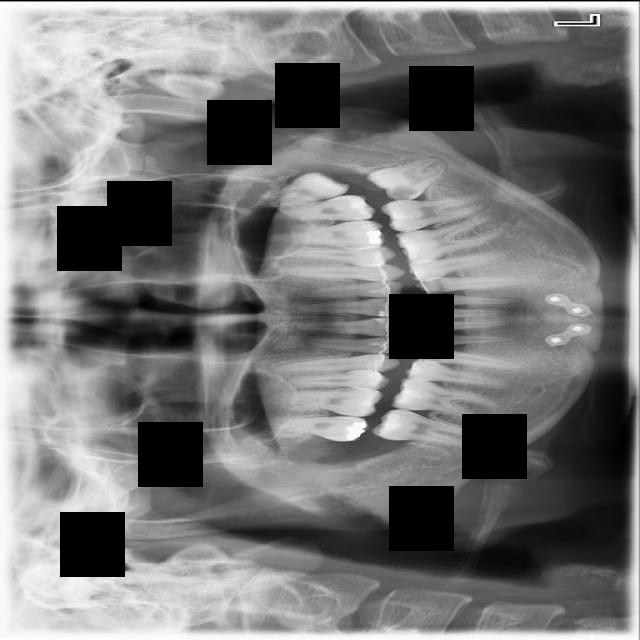52: (371, 396, 425, 451), (394, 220, 443, 270), (390, 371, 442, 417), (379, 193, 430, 237), (332, 384, 383, 418), (326, 192, 376, 222), (335, 220, 385, 249), (319, 415, 370, 441), (388, 180, 418, 204)
73: (553, 24, 581, 36)
BioHorizons Implant: (261, 193, 376, 224)
BioLife Implant: (253, 164, 351, 213)
Biomet 3i Implant: (364, 152, 453, 210)
Blue Sky Bio Implant: (380, 194, 486, 233)
Caries: (249, 411, 371, 442)
Implant: (371, 406, 476, 447)
